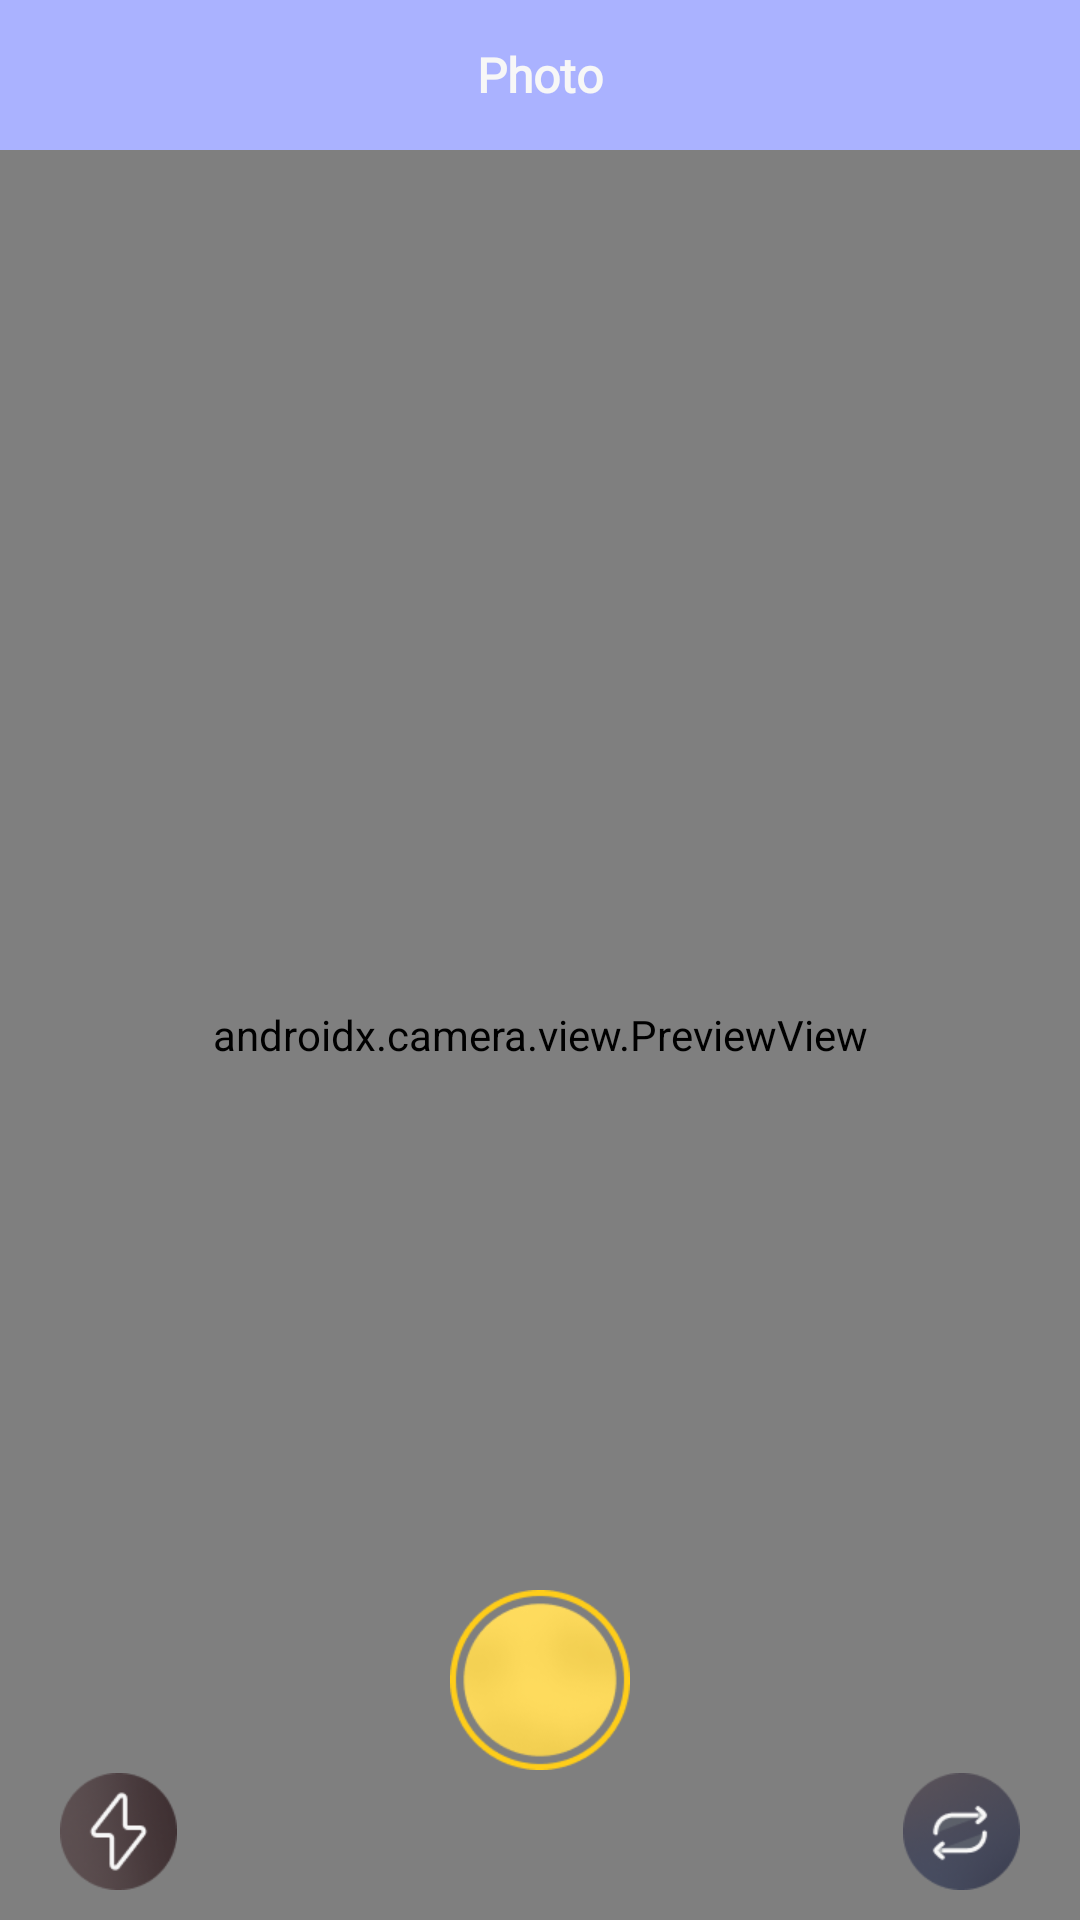

Point at icon controls on the screen. Image size 1080 x 1920, points as point (x, y).
flash: point (118, 1831)
photo fragment take: point (540, 1680)
turn camera: point (961, 1831)
